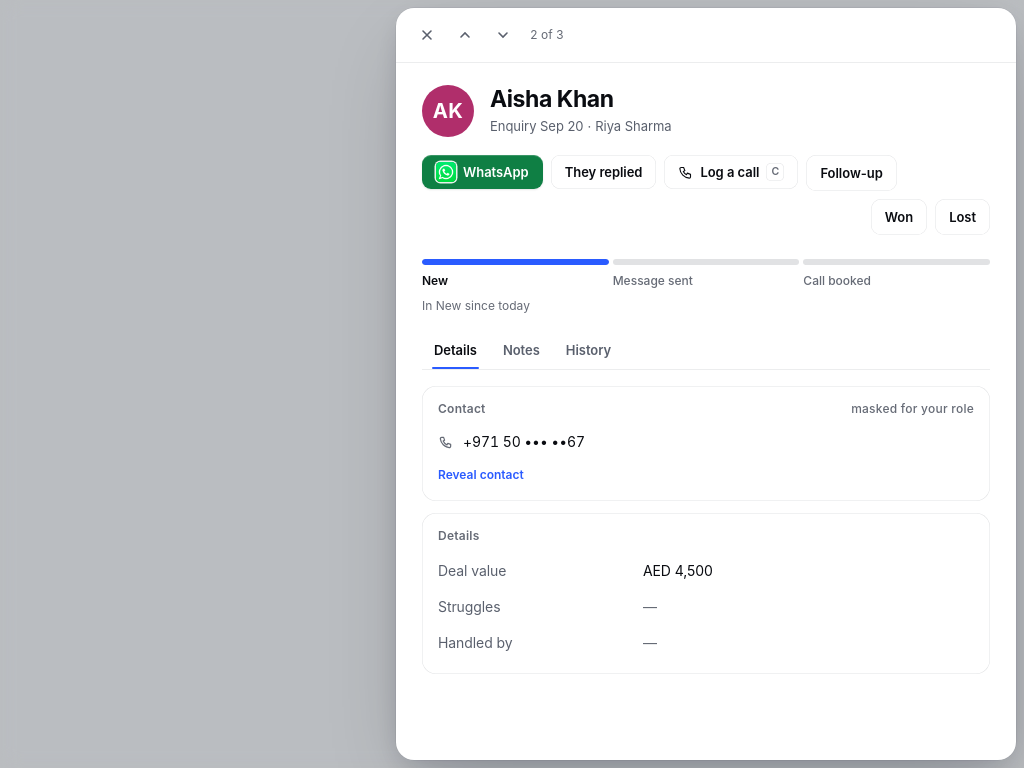
Test: LeadDrawer › reveals a masked contact on request and says plainly that it was recorded
Click the button "Reveal contact" at (481, 475), box 430,463 -> 532,487
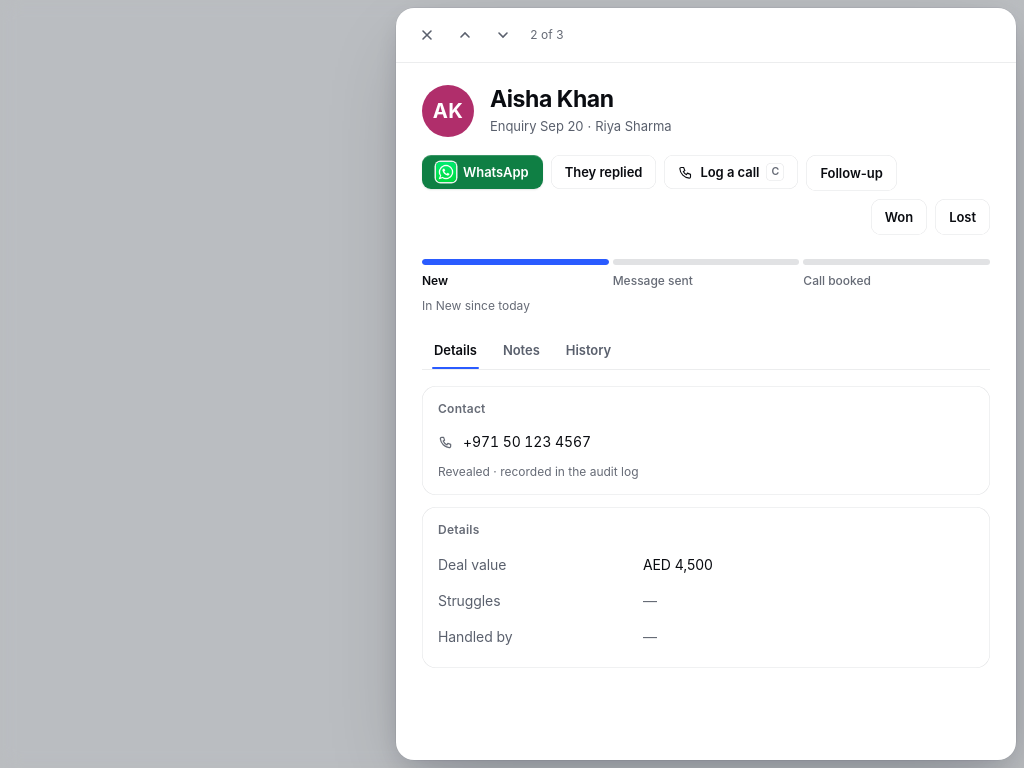
Now the text "+971 50 123 4567" is shown, box 463,432 -> 591,452
Now the text "Revealed · recorded in the audit log" is shown, box 438,464 -> 638,479
Now the button "Reveal contact" is gone
